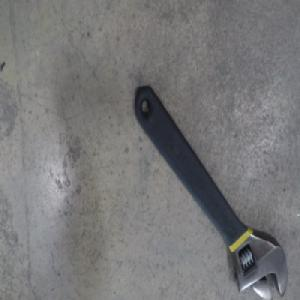AdjustableWrench: (133, 84, 288, 297)
